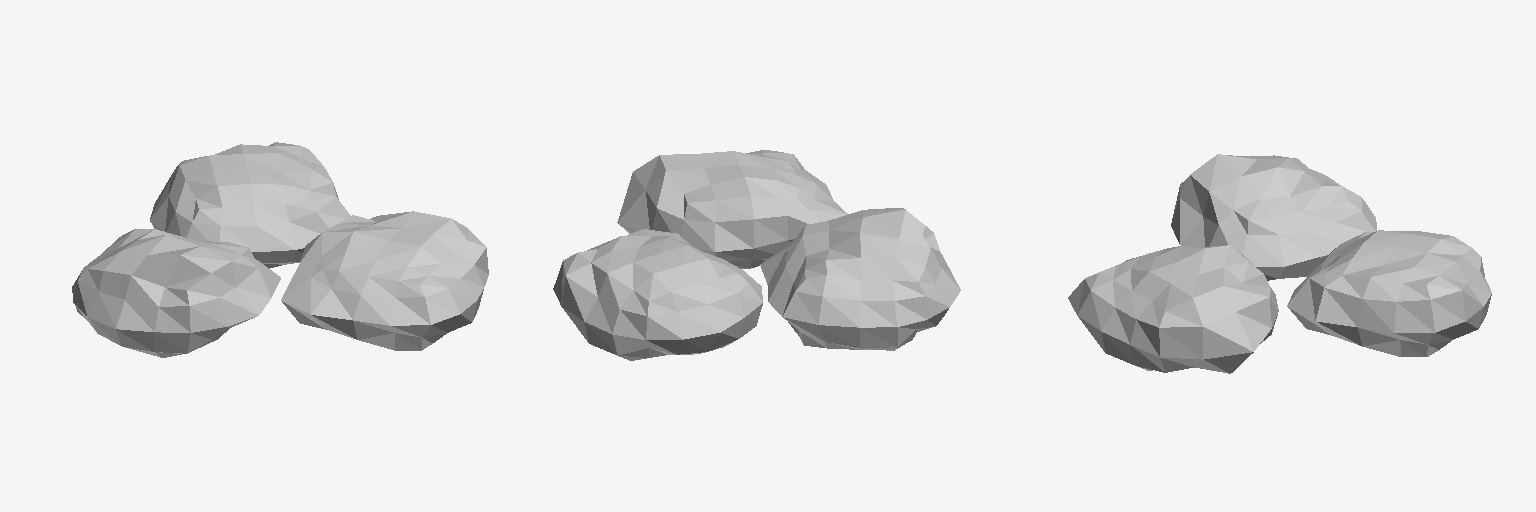
File: RockPile.obj
3 views of the same model, side by side, from view 1: azimuth 30°, elevation 25°; view 2: azimuth 150°, elevation 25°; view 3: azimuth 270°, elevation 25° (orthographic).
Parts seen in each view (by area): view 1: Cube, Cube.002, Cube.001; view 2: Cube.002, Cube.001, Cube; view 3: Cube, Cube.001, Cube.002.
Boxes of the visible parts, x1=… form: Cube: x1=281, y1=211, x2=488, y2=350; Cube.002: x1=72, y1=229, x2=280, y2=357; Cube.001: x1=150, y1=142, x2=350, y2=268; Cube.002: x1=760, y1=208, x2=960, y2=350; Cube.001: x1=553, y1=229, x2=762, y2=360; Cube: x1=617, y1=150, x2=847, y2=268; Cube: x1=1068, y1=245, x2=1278, y2=373; Cube.001: x1=1287, y1=230, x2=1491, y2=356; Cube.002: x1=1171, y1=154, x2=1376, y2=280.
Size of the model in its own units: 5.97 by 1.62 by 6.26.